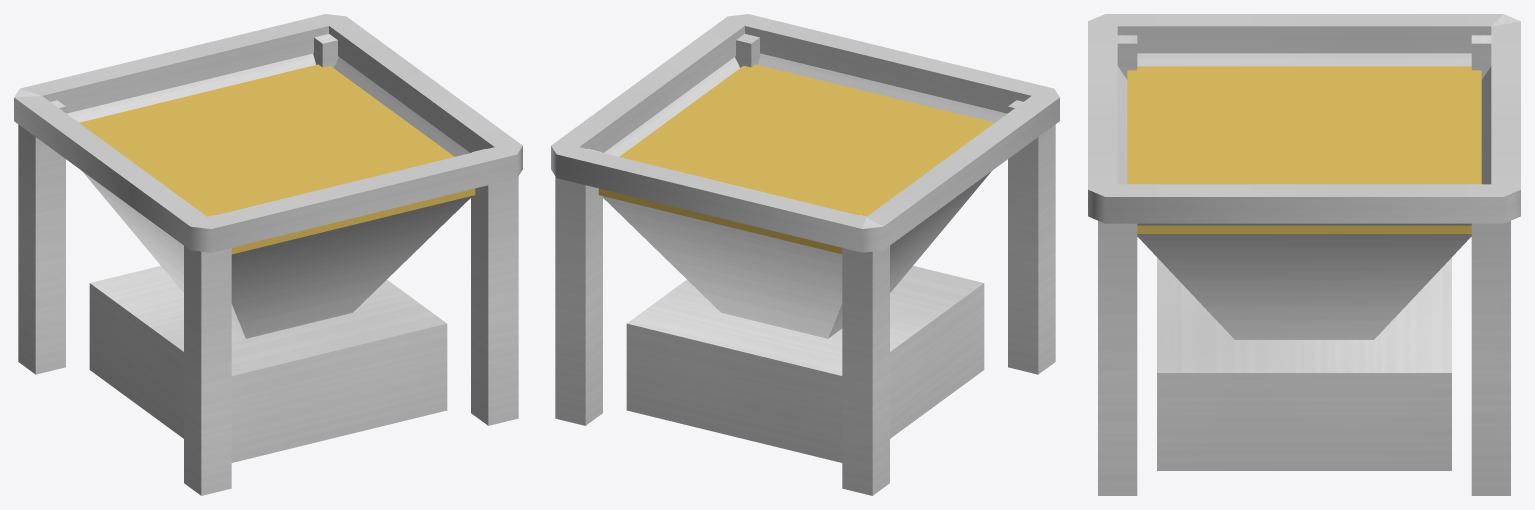
File: hopper.obj
The picture shows the model from 3 angles, left to right: view 1: azimuth 30°, elevation 25°; view 2: azimuth 150°, elevation 25°; view 3: azimuth 270°, elevation 25°; orthographic projection. The views are drawn at different scales.
Parts seen in each view (by area): view 1: dispenser_connection, open_rim_source_bug_corrected, food, open_funnel, leg_1, leg_3, leg_2, leg_4; view 2: dispenser_connection, open_rim_source_bug_corrected, food, open_funnel, leg_2, leg_4, leg_1, leg_3; view 3: food, dispenser_connection, open_rim_source_bug_corrected, open_funnel, leg_3, leg_4, leg_1, leg_2.
Boxes of the visible parts, bbox=[...] form: dispenser_connection: bbox=[89, 266, 447, 462]; open_rim_source_bug_corrected: bbox=[14, 14, 522, 252]; food: bbox=[79, 64, 475, 254]; open_funnel: bbox=[67, 53, 471, 338]; leg_1: bbox=[184, 215, 231, 495]; leg_3: bbox=[471, 149, 518, 425]; leg_2: bbox=[18, 100, 65, 374]; leg_4: bbox=[313, 34, 338, 67]; dispenser_connection: bbox=[626, 266, 984, 462]; open_rim_source_bug_corrected: bbox=[551, 14, 1059, 252]; food: bbox=[598, 64, 994, 254]; open_funnel: bbox=[602, 53, 1006, 338]; leg_2: bbox=[842, 215, 889, 495]; leg_4: bbox=[555, 149, 602, 425]; leg_1: bbox=[1008, 100, 1055, 374]; leg_3: bbox=[735, 34, 760, 67]; food: bbox=[1127, 66, 1481, 233]; dispenser_connection: bbox=[1157, 257, 1451, 470]; open_rim_source_bug_corrected: bbox=[1088, 14, 1520, 223]; open_funnel: bbox=[1117, 53, 1491, 339]; leg_3: bbox=[1098, 221, 1137, 495]; leg_4: bbox=[1471, 221, 1510, 495]; leg_1: bbox=[1117, 35, 1137, 79]; leg_2: bbox=[1471, 35, 1491, 79].
Bounding box in the file's own units: 0.88 × 0.68 × 0.88.
